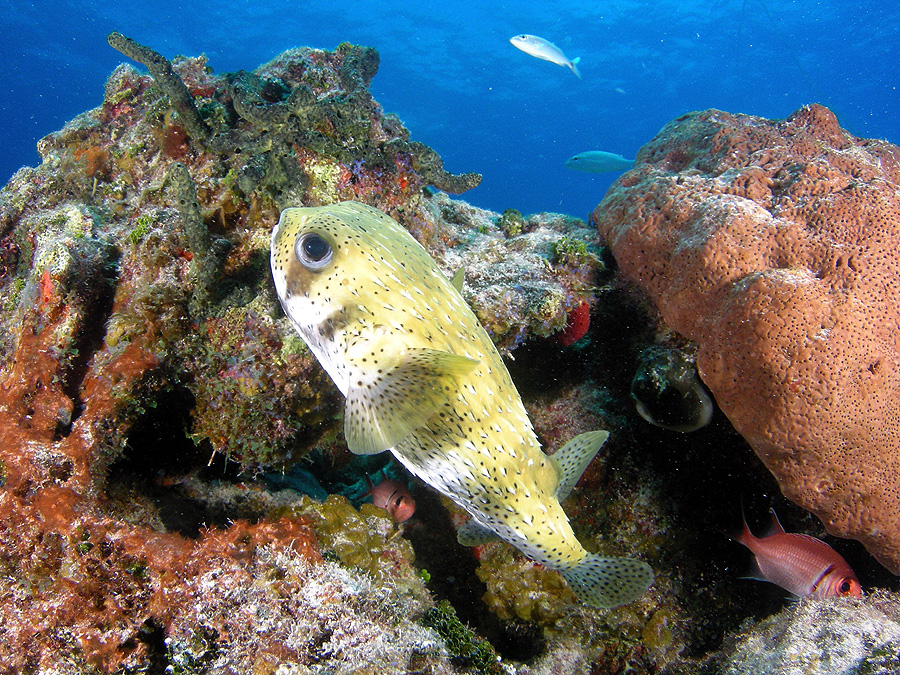Diodon_holocanthus: (256, 189, 655, 613)
